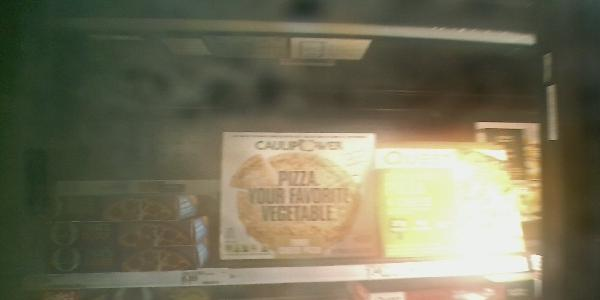pizza1: (217, 128, 378, 262), (376, 147, 526, 265), (26, 221, 198, 247), (18, 250, 197, 274), (40, 195, 201, 219)
